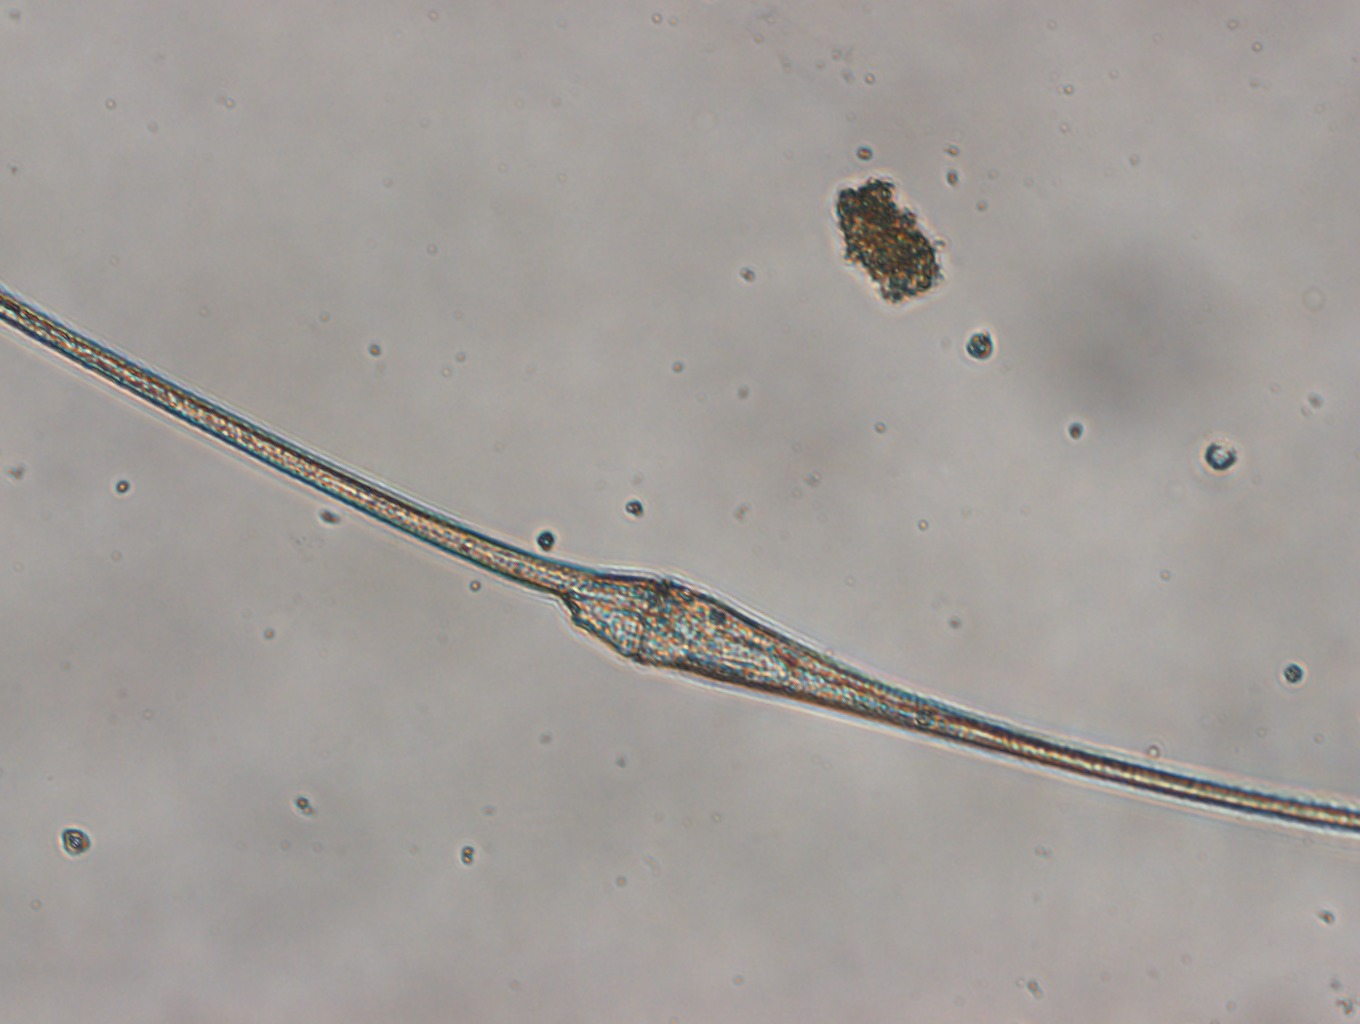ceratium fusus: (1, 285, 1360, 831)
